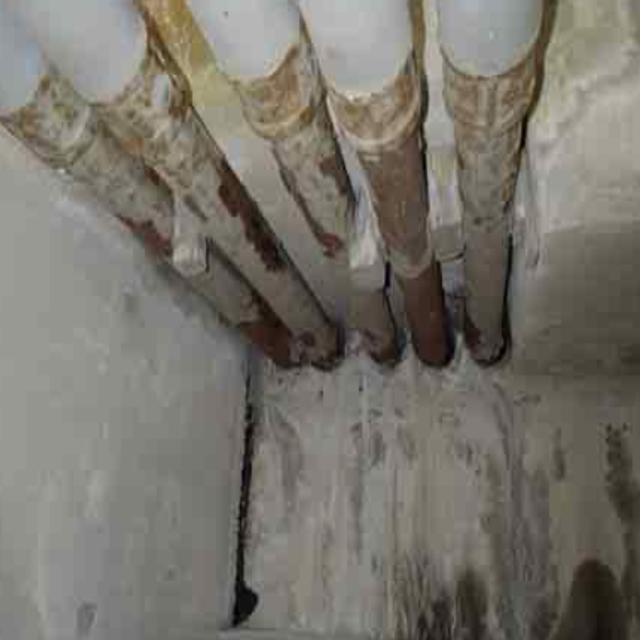corrosion: (114, 172, 497, 382)
